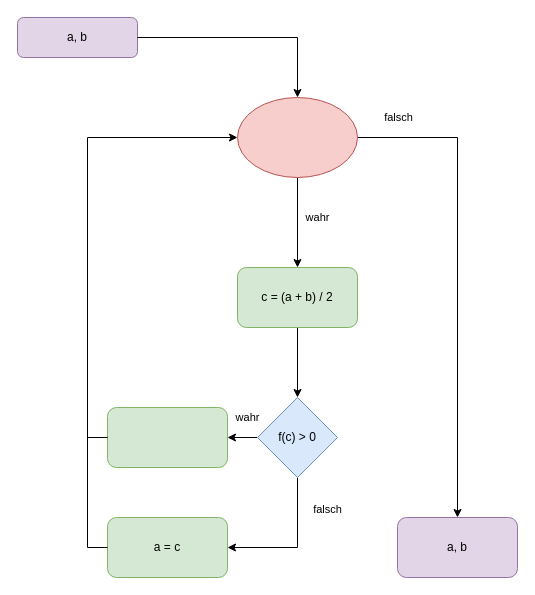
Image size: 535x595. Some labels were removed from this diagram. The shapes that lost their labels are listed below. From the top down, each one's box as (x1, y1, x2, y2) in pixels, then its label:
(236, 96, 358, 178): solange |a-b| < 0.1
(106, 406, 228, 468): b = c
